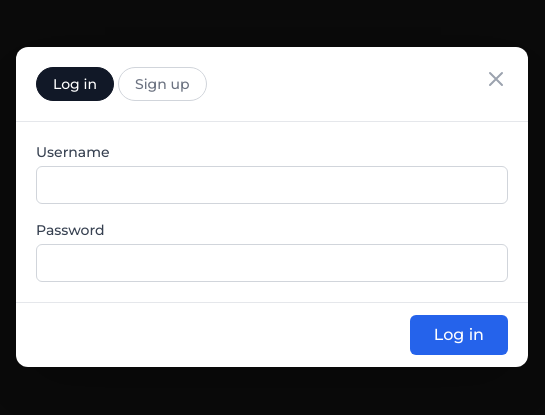
Test: AuthModal › shows the error message when login rejects
The width and height of the screenshot is (545, 415).
Type "alice" into the field labelled "Username" at [272, 185], box x1=36 y1=166 x2=508 y2=204
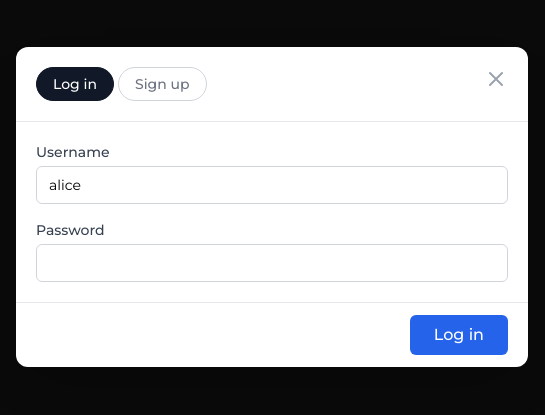
Type "wrong-pass" into the password field labelled "Password" at [272, 263], box x1=36 y1=244 x2=508 y2=282
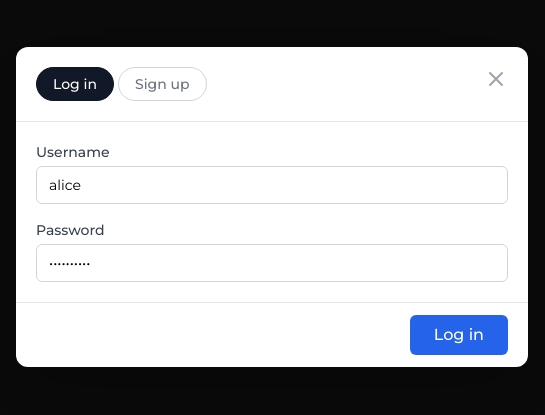
Click the submit button at [459, 335], box x1=410 y1=315 x2=508 y2=355
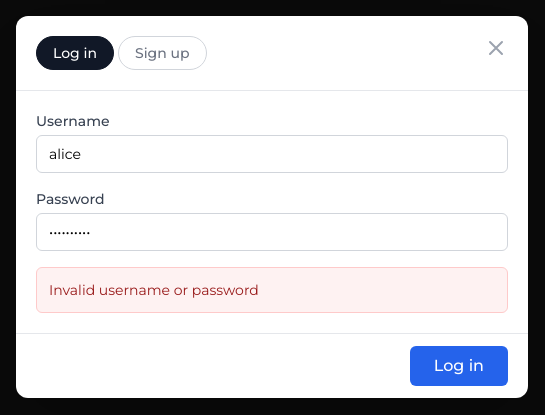
Result: the text "Invalid username or password" is shown at x1=49 y1=281 x2=259 y2=299
